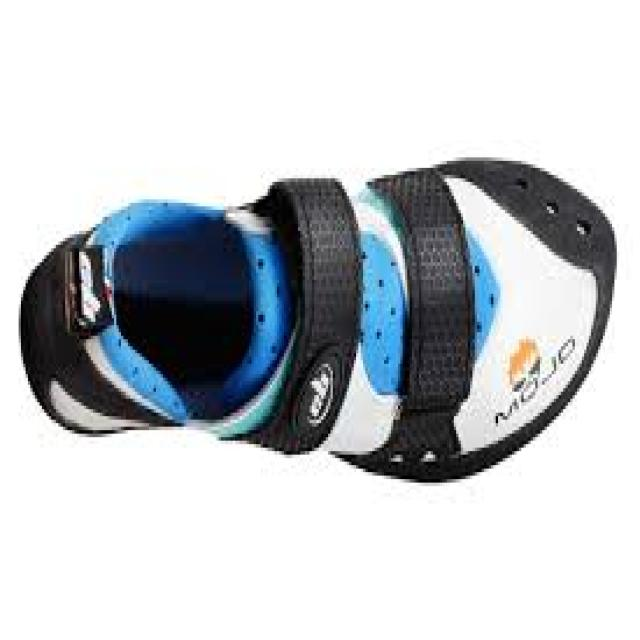climbing-shoes: (17, 154, 618, 486)
